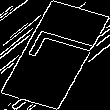L_E: (15, 31, 95, 79)
